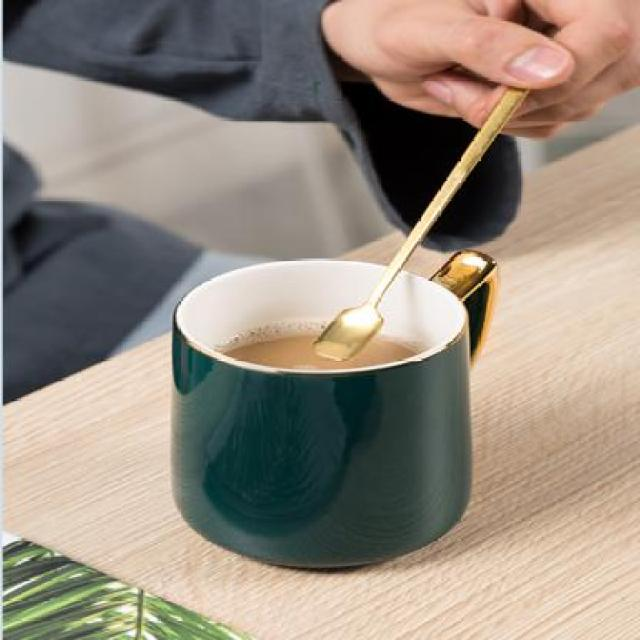cup: (126, 244, 537, 576)
